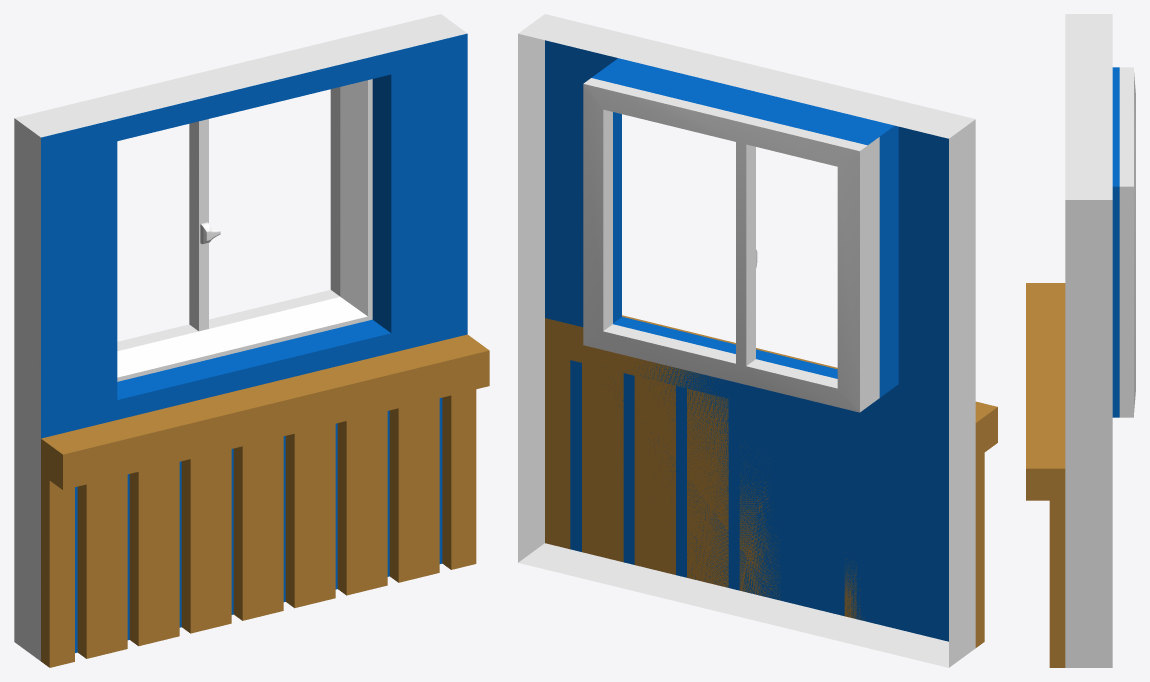
File: window_wall.fbx
3 renders of one model, left to right at view 1: azimuth 30°, elevation 25°; view 2: azimuth 150°, elevation 25°; view 3: azimuth 270°, elevation 25°, orthographic. The views are drawn at different scales.
Visible parts, largest first — view 1: wood, blue_wall, window; view 2: blue_wall, wood, window; view 3: blue_wall, wood, window.
Part boxes in pixels (x1,y1,x2,y2): wood: (41,334,489,667); blue_wall: (14,14,467,661); window: (117,79,372,381); blue_wall: (518,14,975,667); wood: (545,315,997,647); window: (583,78,879,412); blue_wall: (1065,14,1119,667); wood: (1026,283,1065,667); window: (1119,67,1135,417).
Bounding box in the file's own units: 697 × 818 × 174.
